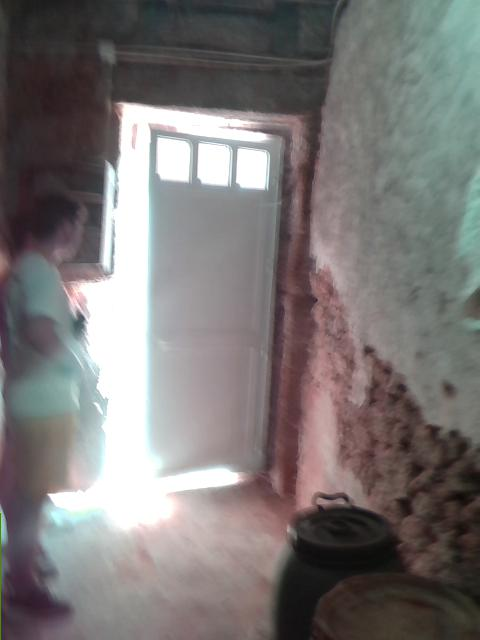closed_door: (142, 127, 284, 474)
